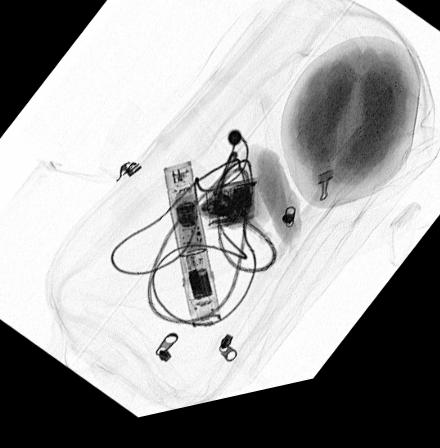Baton: (162, 167, 221, 337)
